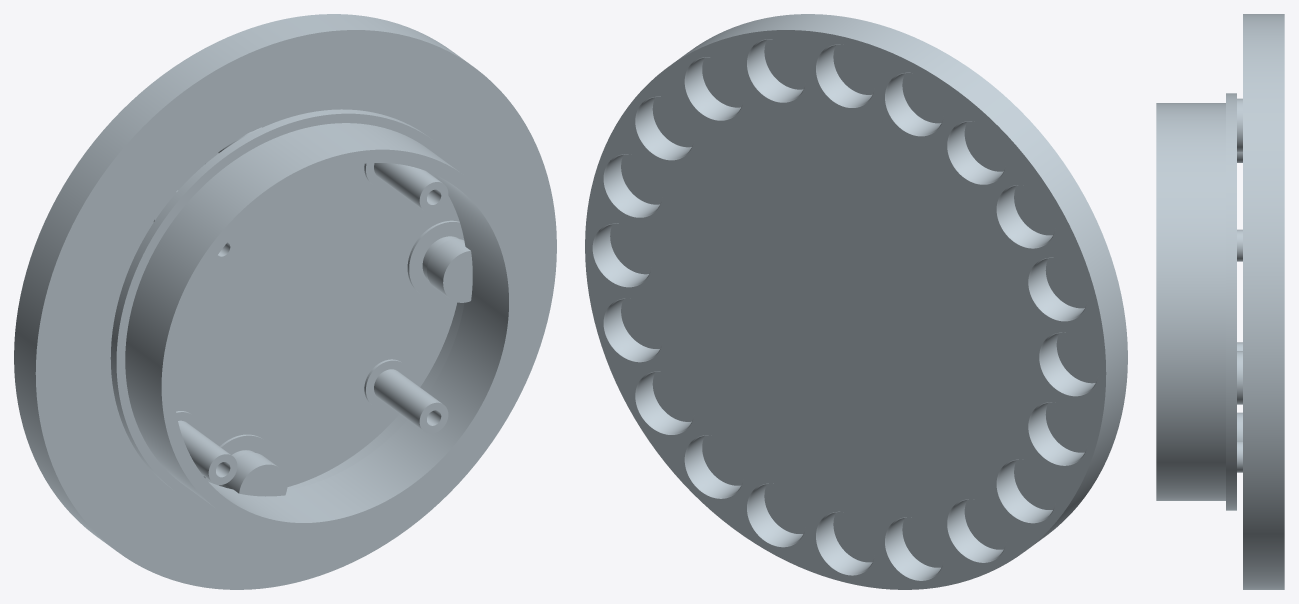
Rendered from Base_V3_Discs.glb.
3 views of the same model, side by side, from view 1: azimuth 30°, elevation 25°; view 2: azimuth 150°, elevation 25°; view 3: azimuth 270°, elevation 25° (orthographic). The views are drawn at different scales.
Visible parts, largest first — view 1: Base_V3_Discs_0; view 2: Base_V3_Discs_0; view 3: Base_V3_Discs_0.
Part boxes in pixels (x1,y1,x2,y2): Base_V3_Discs_0: [14, 14, 556, 589]; Base_V3_Discs_0: [585, 14, 1127, 589]; Base_V3_Discs_0: [1156, 14, 1284, 589].
Size of the model in its own units: 58 by 58 by 12.9.
